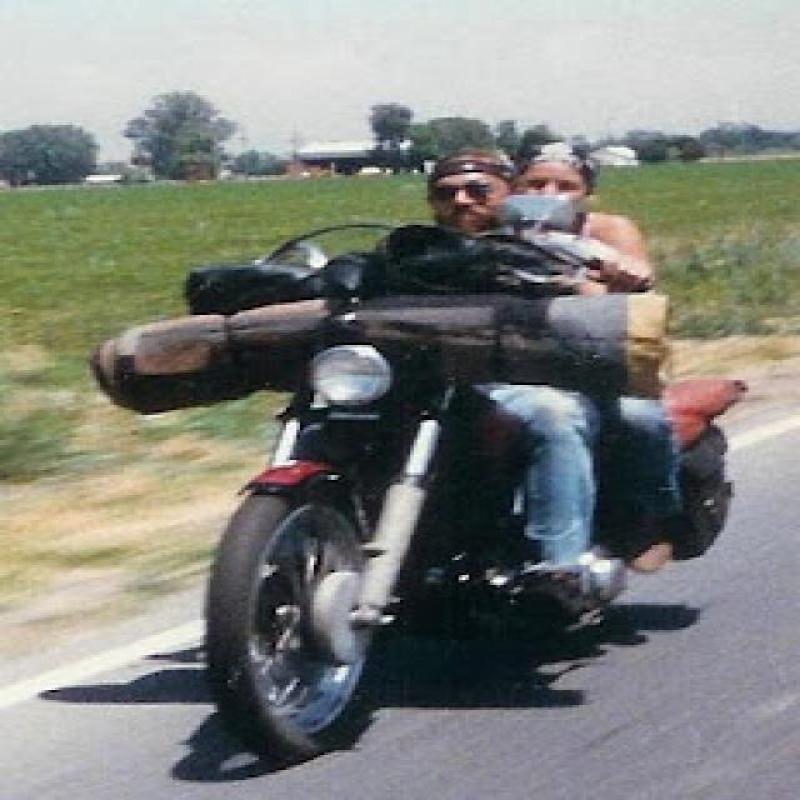nohelmet: (413, 139, 523, 234)
